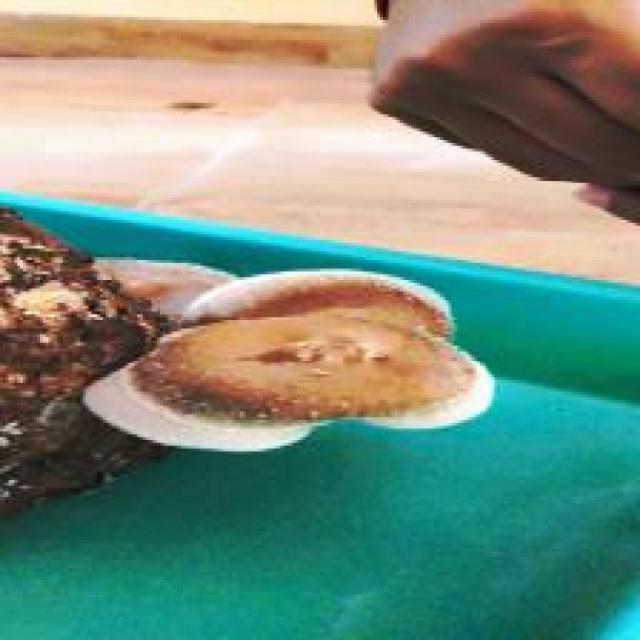death-cap: (80, 266, 494, 454)
